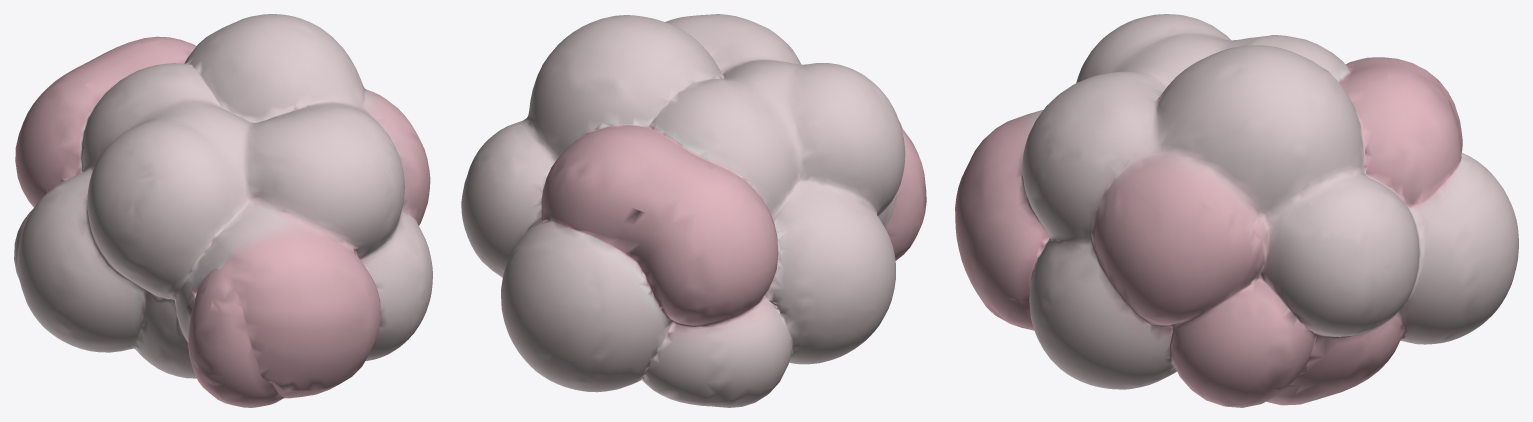
3 renders of one model, left to right at view 1: azimuth 30°, elevation 25°; view 2: azimuth 150°, elevation 25°; view 3: azimuth 270°, elevation 25°, orthographic. The views are drawn at different scales.
Visible parts, largest first — view 1: repaired; view 2: repaired; view 3: repaired.
Part boxes in pixels (x1,y1,x2,y2): repaired: (14, 14, 432, 407); repaired: (461, 14, 926, 407); repaired: (955, 14, 1518, 407).
Bounding box in the file's own units: 0.8091 × 0.6801 × 0.9995.
1 material, 1 textured.
